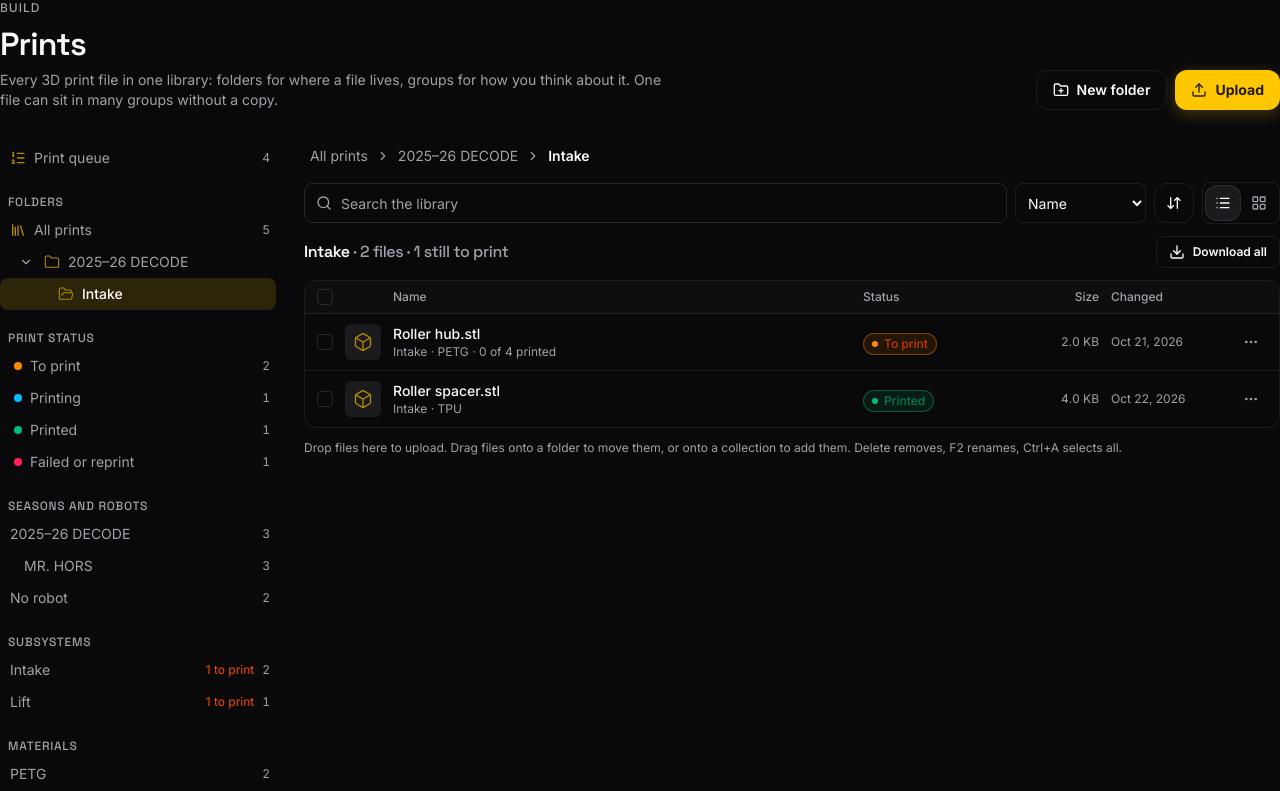
Test case: Prints explorer › counts quick clicks on the copies stepper and saves them once
Expected: the heading "Intake · 2 files · 1 still to print" is shown, [304, 240, 508, 264]
Click the button "Roller hub.stl Intake · PETG · 0 of 4 printed": (437, 334) [393, 320, 851, 364]
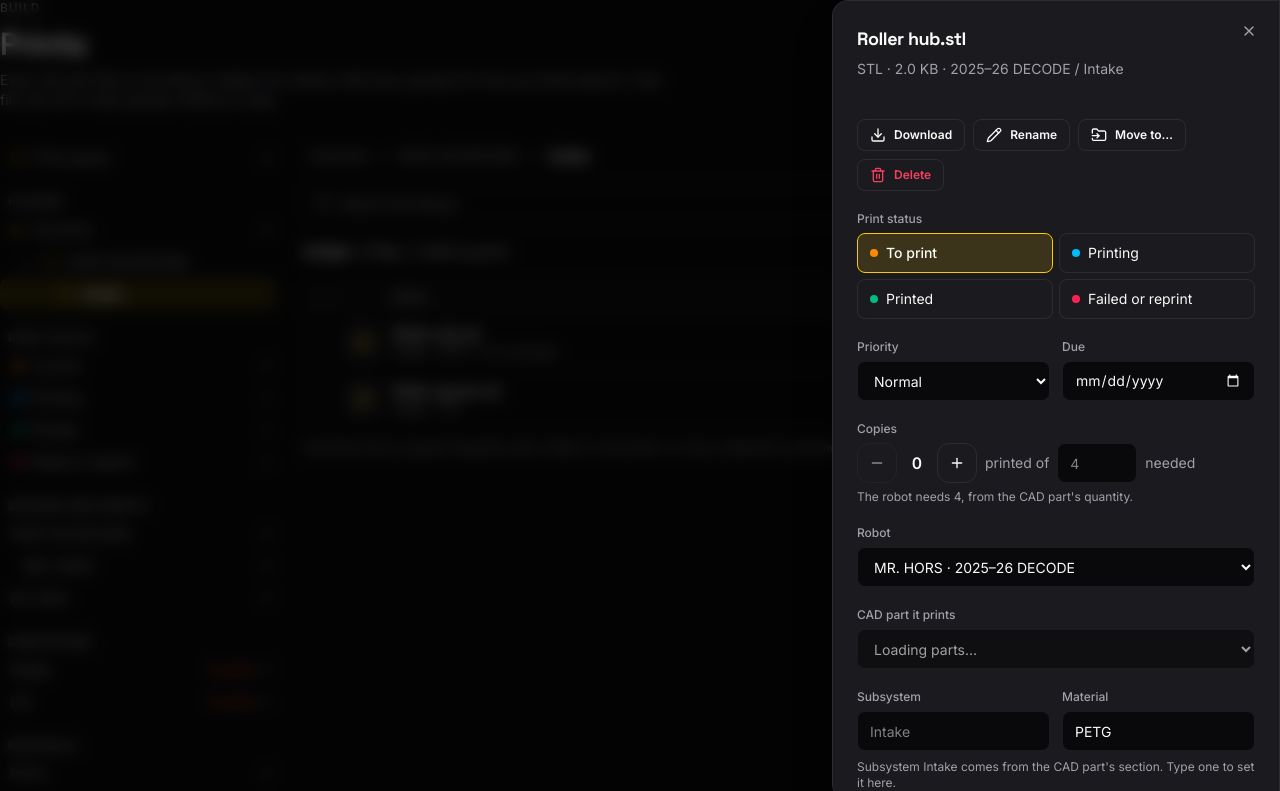
Click the button named "One more printed": (957, 463) [937, 443, 977, 483]
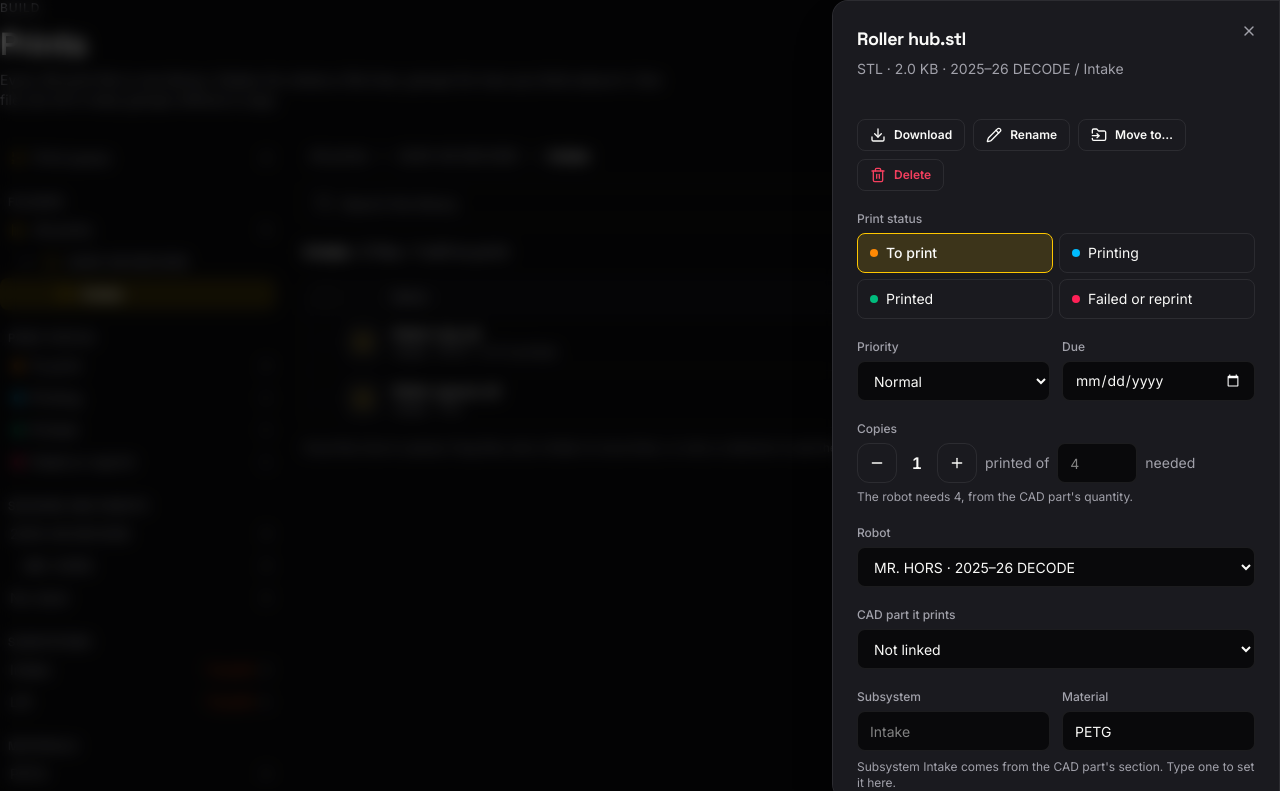
Click the button named "One more printed": (957, 463) [937, 443, 977, 483]
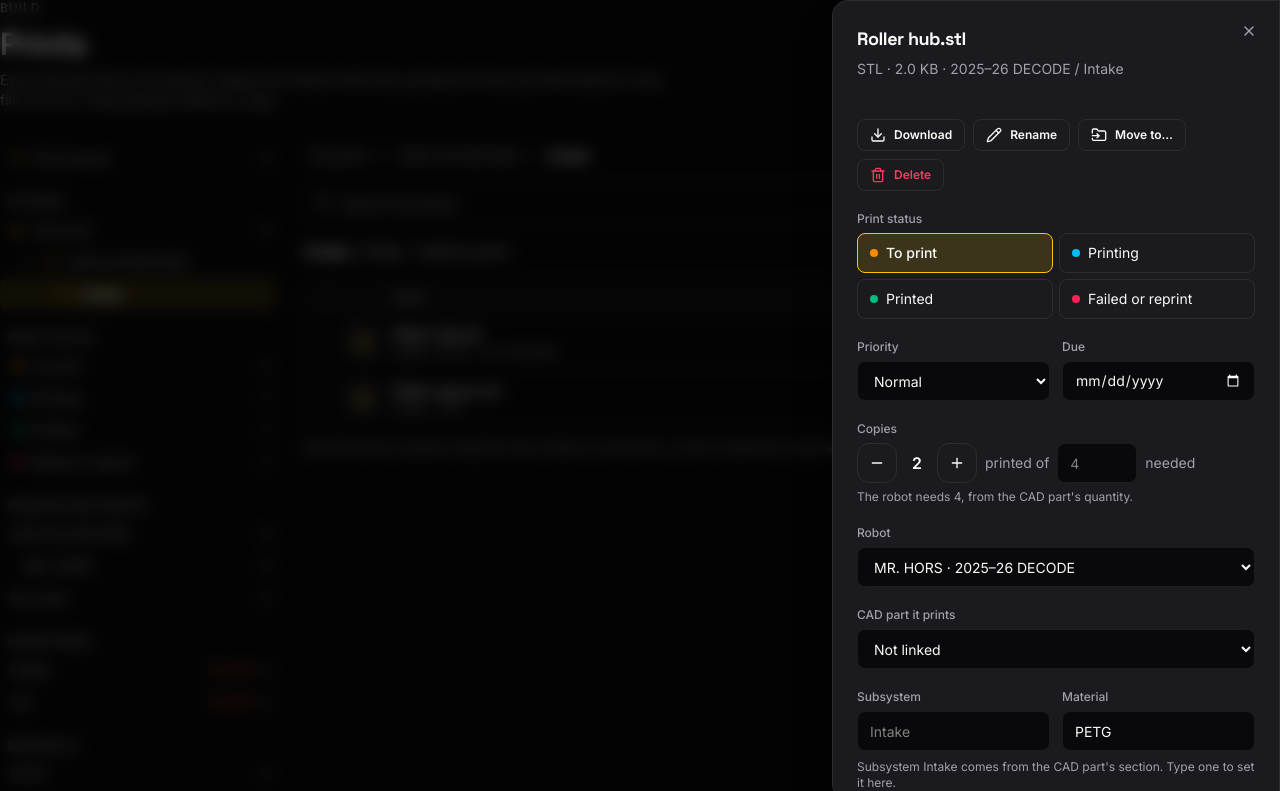
Click the button named "One more printed": (957, 463) [937, 443, 977, 483]
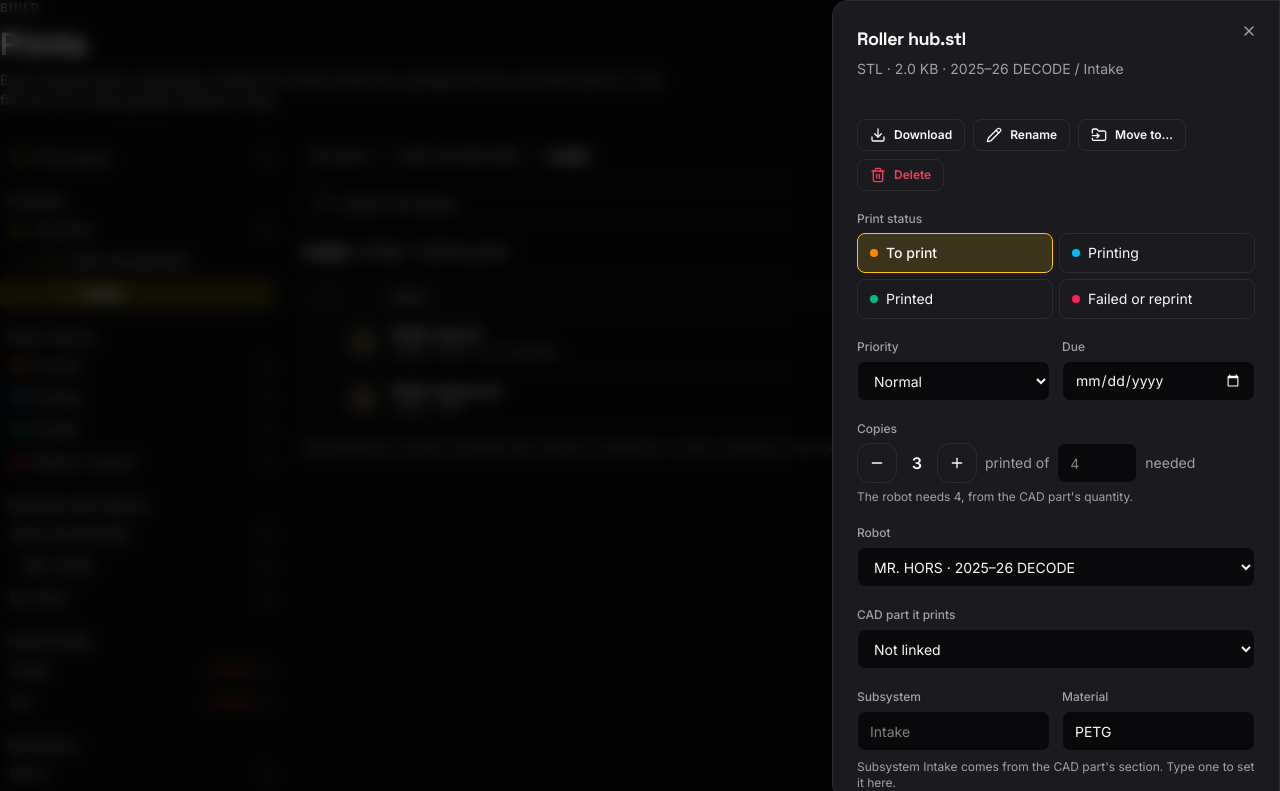
Now the text "3" is shown, box [912, 453, 922, 473]
